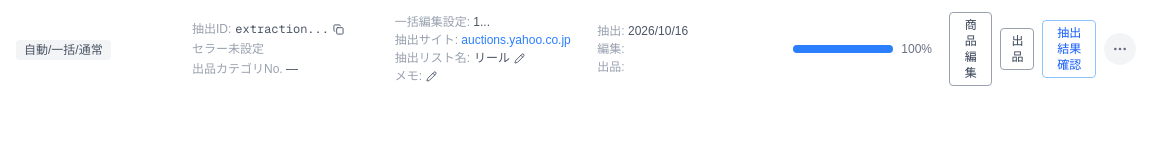
Scenario: 抽出リスト名 › 保存に失敗したら元の名前に戻す
Click the button named "抽出リスト名を編集". click: [520, 58]
box: [514,52,525,64]
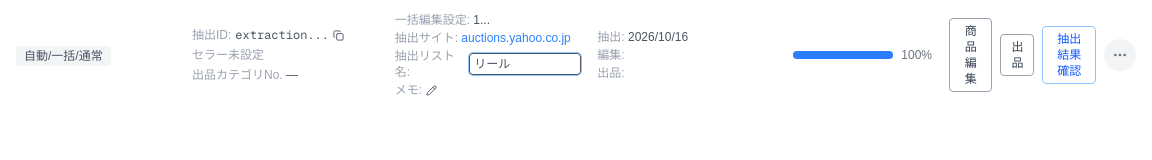
Replace the text in the field showing "リール" with "ロッド". click: [525, 64]
box: [469,53,581,75]
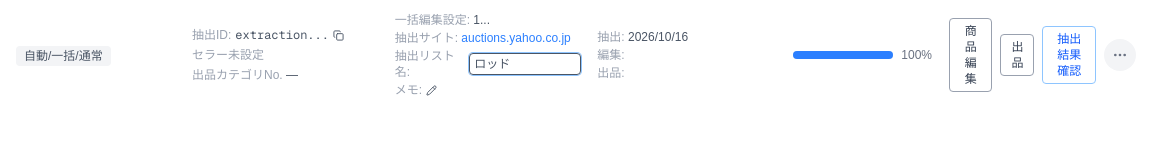
Press Enter in the field showing "ロッド", box [469,53,581,75]
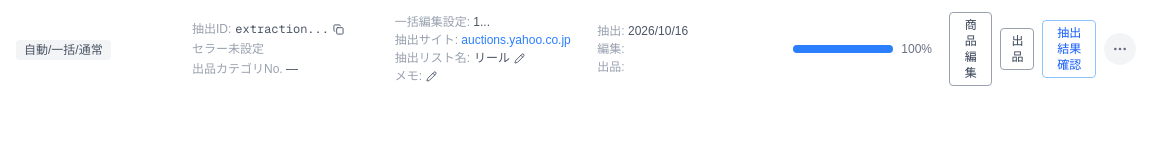
Expected: the text "リール" is shown, [474,50,510,66]
